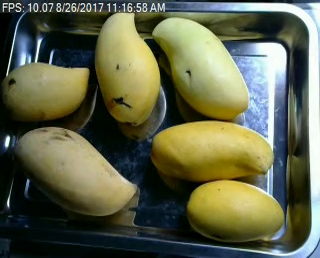Mango: (15, 127, 137, 215), (151, 16, 248, 117), (94, 11, 161, 124), (152, 120, 272, 182), (187, 179, 283, 240), (4, 60, 89, 120)
